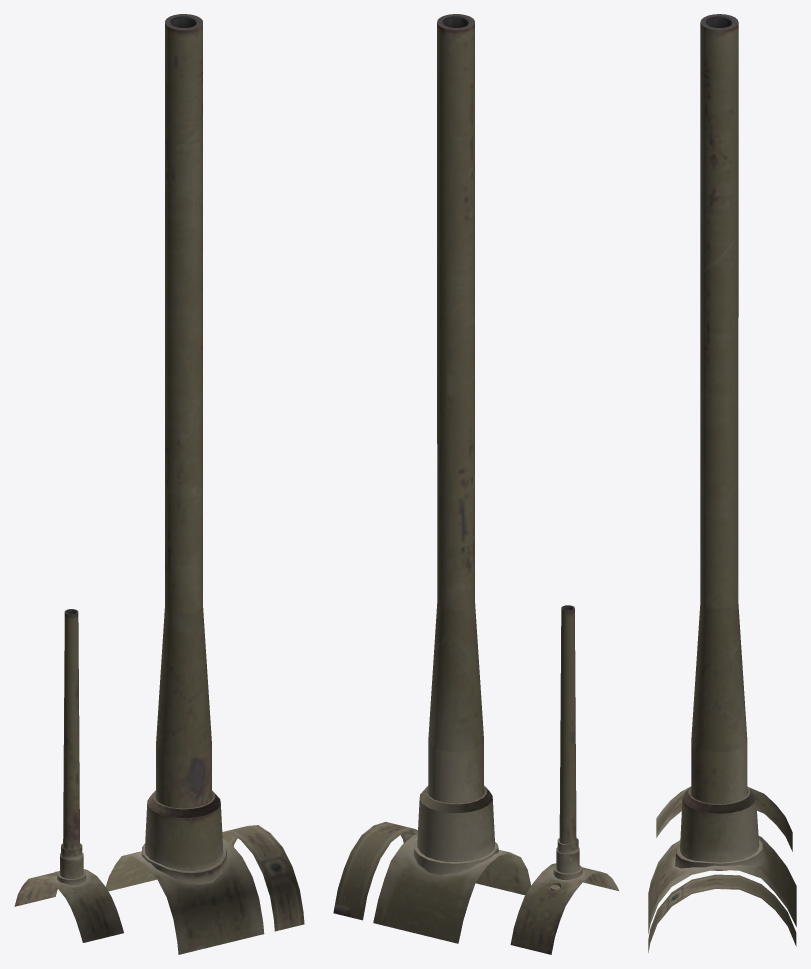
Rendered from Gun_09.glb.
3 renders of one model, left to right at view 1: azimuth 30°, elevation 25°; view 2: azimuth 150°, elevation 25°; view 3: azimuth 270°, elevation 25°, orthographic.
Visible parts, largest first — view 1: set_0_group_0; view 2: set_0_group_0; view 3: set_0_group_0.
Boxes of the visible parts, left/top/right/bottom form: set_0_group_0: left=14, top=14, right=304, bottom=954; set_0_group_0: left=333, top=14, right=618, bottom=954; set_0_group_0: left=648, top=14, right=796, bottom=952.
Size of the model in its own units: 0.8885 by 3.5 by 0.5285.
1 material, 1 textured.
